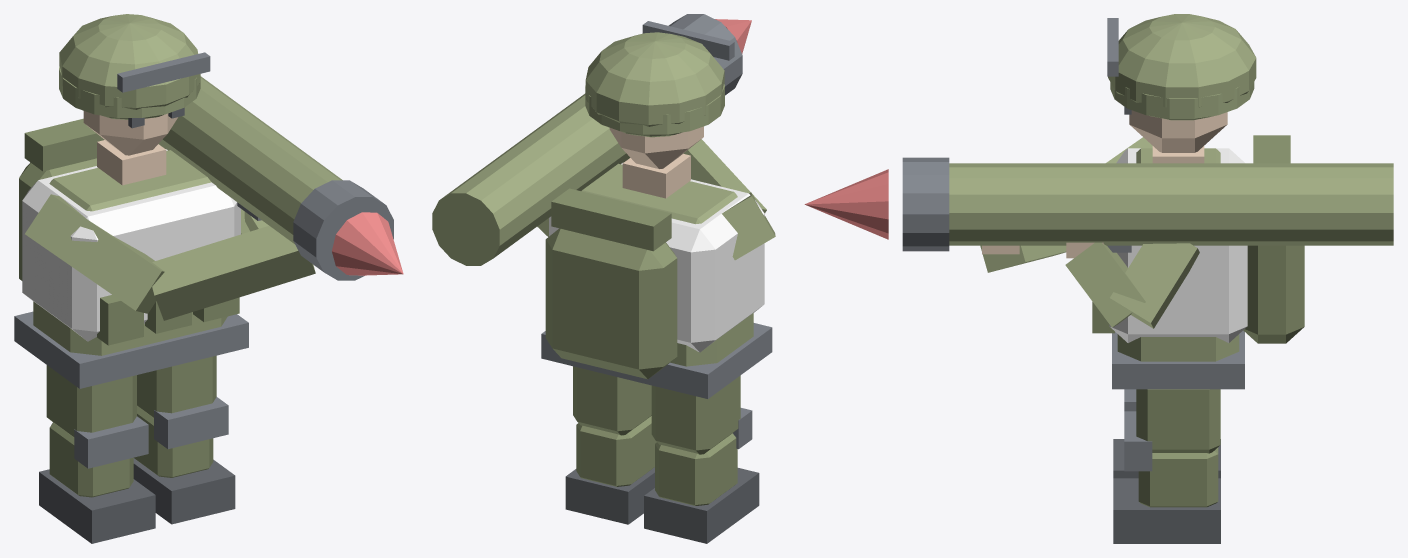
The model's file is rocket.glb.
3 renders of one model, left to right at view 1: azimuth 30°, elevation 25°; view 2: azimuth 150°, elevation 25°; view 3: azimuth 270°, elevation 25°, orthographic. The views are drawn at different scales.
Parts seen in each view (by area): view 1: main, shinl, shinr, legl, legr; view 2: main, shinl, shinr, legl, legr; view 3: main, shinr, legr, shinl.
Boxes of the visible parts, x1,y1,x2,y2 form: main: [14, 14, 403, 388]; shinl: [39, 416, 155, 543]; shinr: [133, 397, 235, 524]; legl: [46, 365, 136, 437]; legr: [137, 355, 216, 417]; main: [432, 14, 775, 398]; shinl: [644, 408, 759, 543]; shinr: [565, 416, 656, 524]; legl: [651, 375, 740, 454]; legr: [573, 366, 651, 435]; main: [804, 14, 1393, 389]; shinr: [1113, 411, 1220, 543]; legr: [1136, 389, 1220, 453]; shinl: [1113, 389, 1220, 478].
Bounding box in the file's own units: 0.323 × 0.5733 × 0.63.
